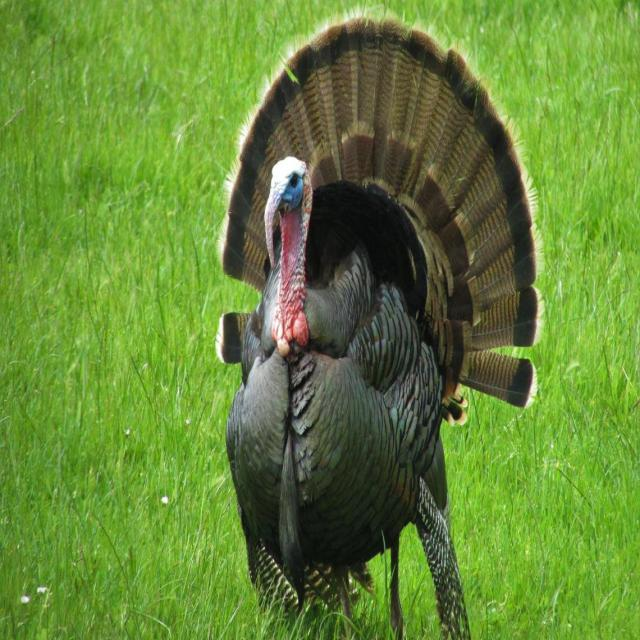Turkey: (206, 2, 546, 634)
